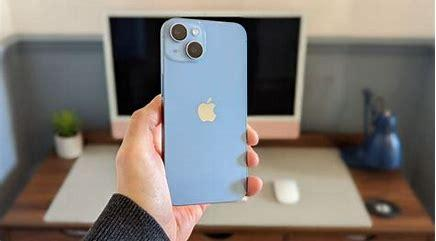-iphone13: (153, 16, 259, 211)
